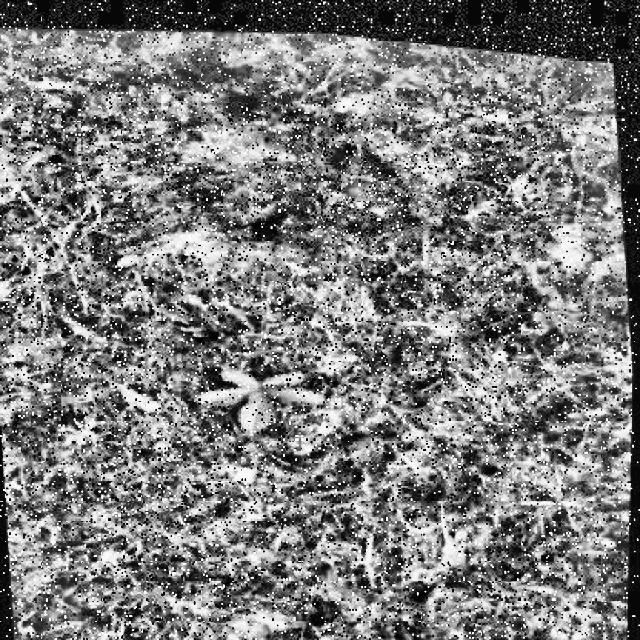Weeds: (195, 341, 332, 439)
